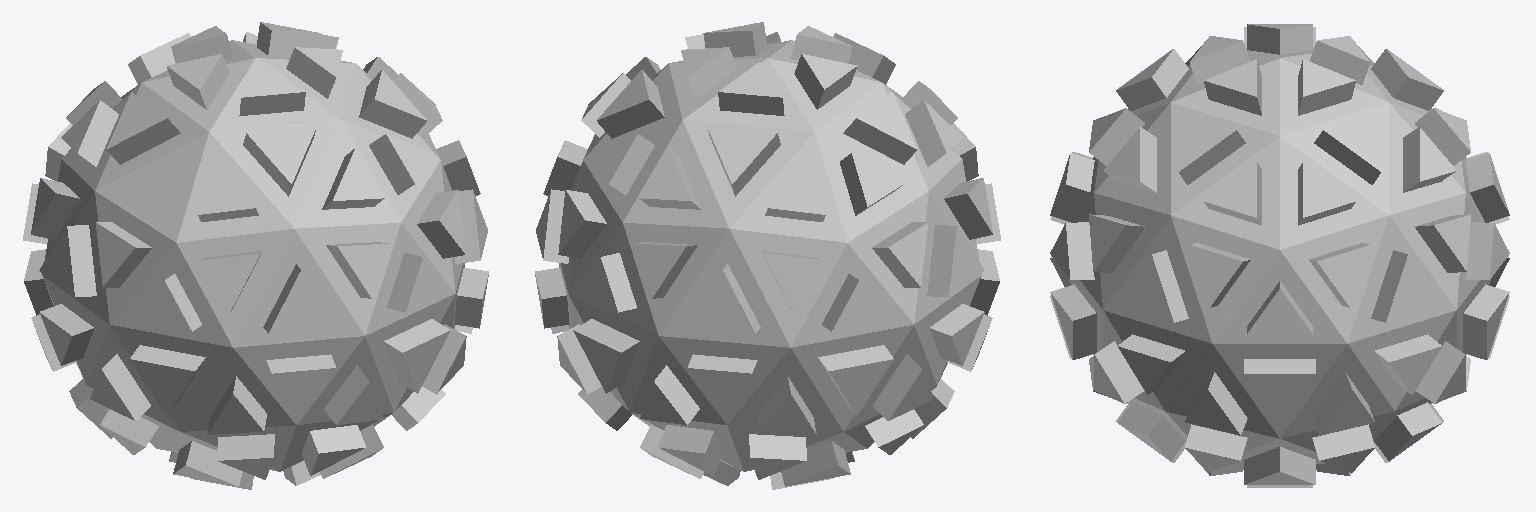
The model's file is death_sphere.obj.
3 renders of one model, left to right at view 1: azimuth 30°, elevation 25°; view 2: azimuth 150°, elevation 25°; view 3: azimuth 270°, elevation 25°, orthographic.
Parts seen in each view (by area): view 1: Icosphere; view 2: Icosphere; view 3: Icosphere.
Boxes of the visible parts, <box> form: Icosphere: <box>23,22,488,489</box>; Icosphere: <box>535,22,1000,489</box>; Icosphere: <box>1050,24,1509,487</box>.
Bounding box in the file's own units: 1.59 × 1.59 × 1.58.